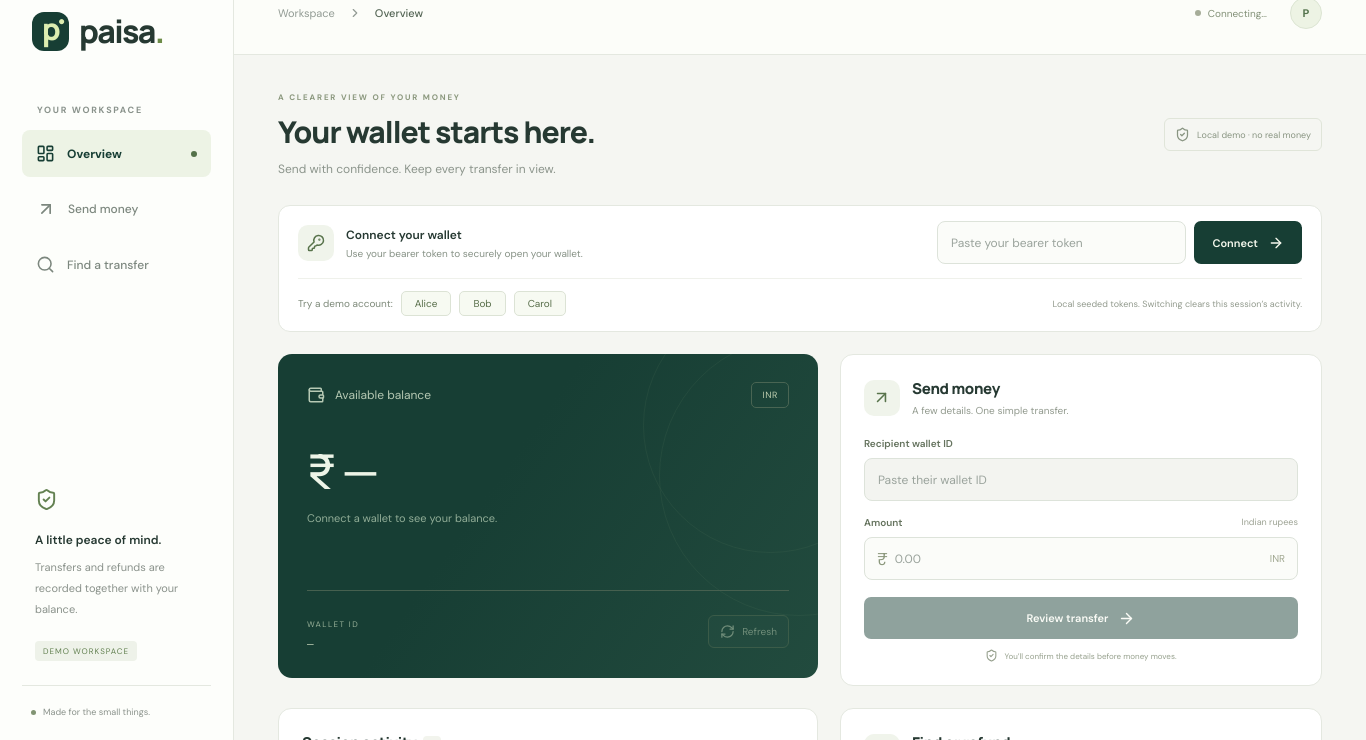
it: offers refunds only for an incoming successful original transfer
Type "test-token" into the password field labelled "bearer token" at {"x": 1062, "y": 242}, box [937,221,1186,264]
Click the button "Connect" at {"x": 1248, "y": 242}, box [1194,221,1302,264]
(page scrolled)
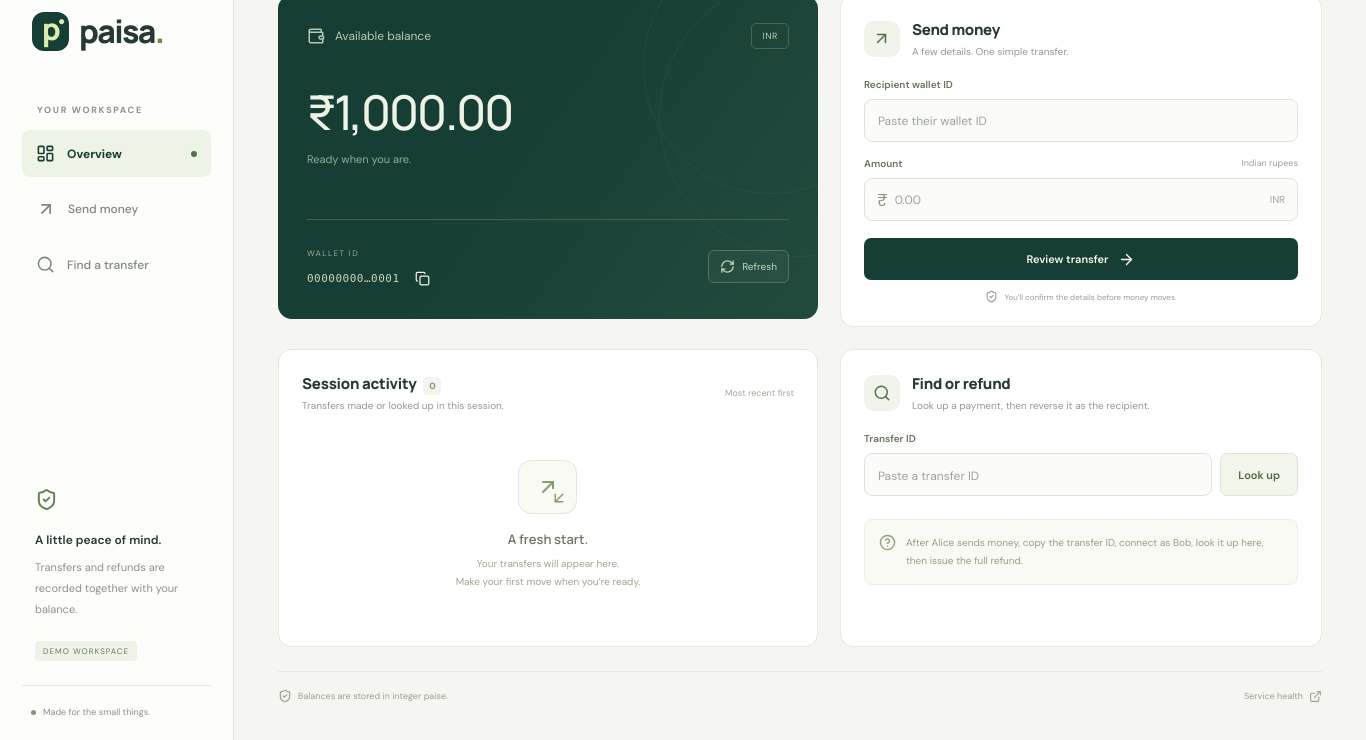
Type "00000000-0000-4000-8000-000000000010" into the field labelled "Transfer ID" at {"x": 1038, "y": 474}, box [864,453,1212,496]
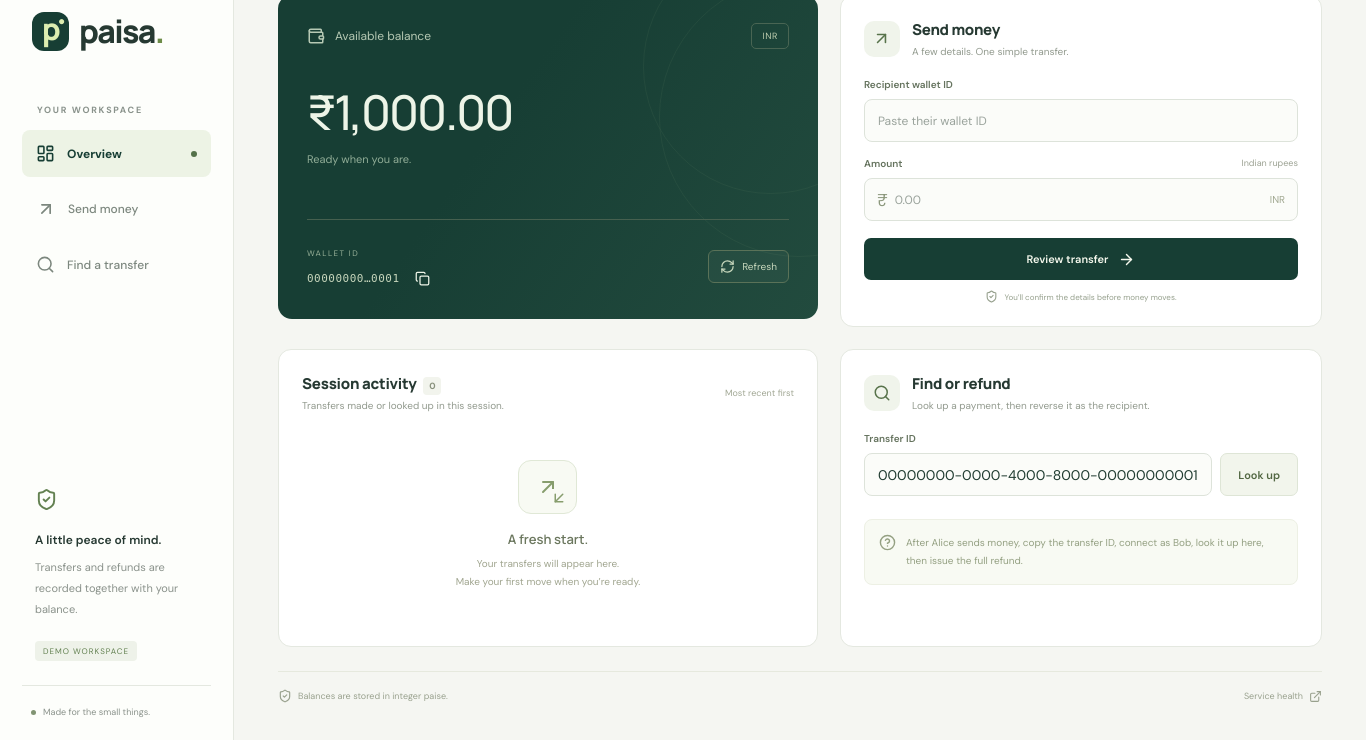
Click the button "Look up" at {"x": 1259, "y": 474}, box [1220,453,1298,496]
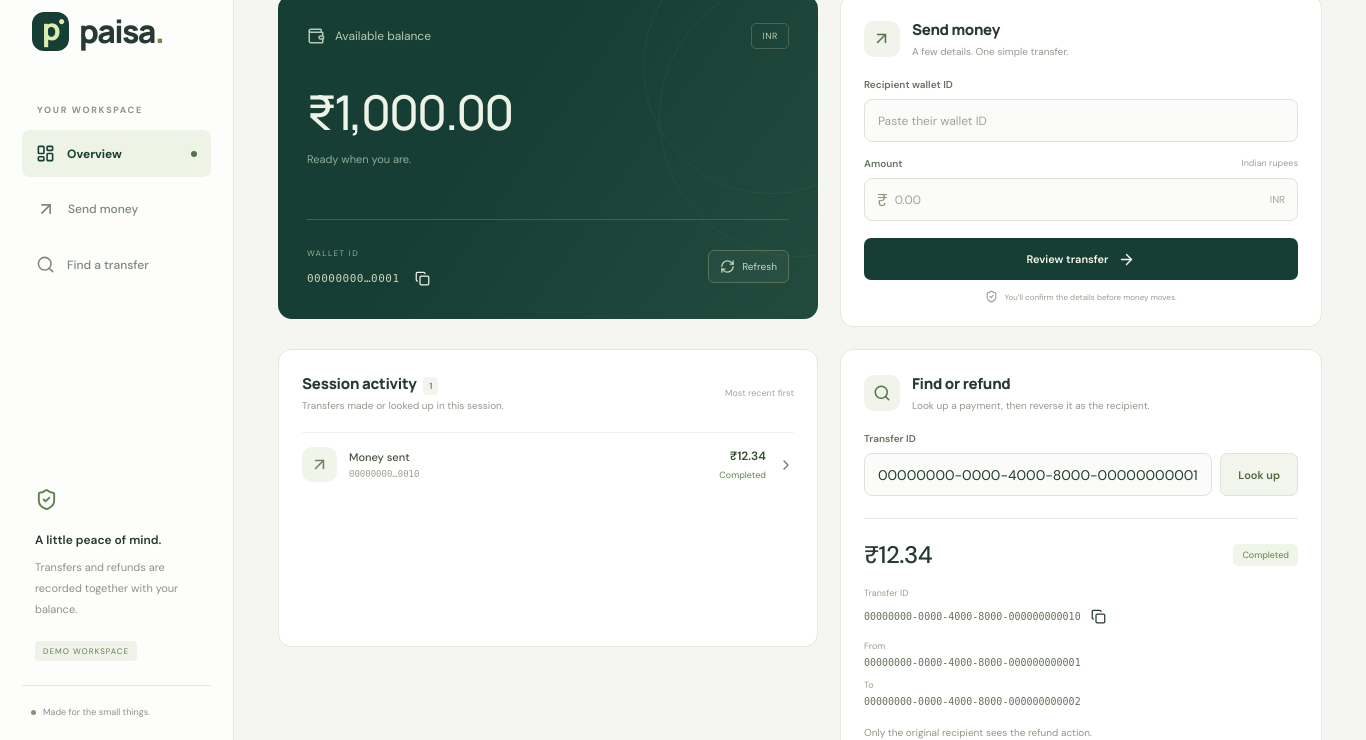
Expected: the button "Review full refund" is not shown
Expected: the text "Only the original recipient sees the refund action." is shown, [864,726,1092,739]
Click the button "Look up" at {"x": 1259, "y": 474}, box [1220,453,1298,496]
(page scrolled)
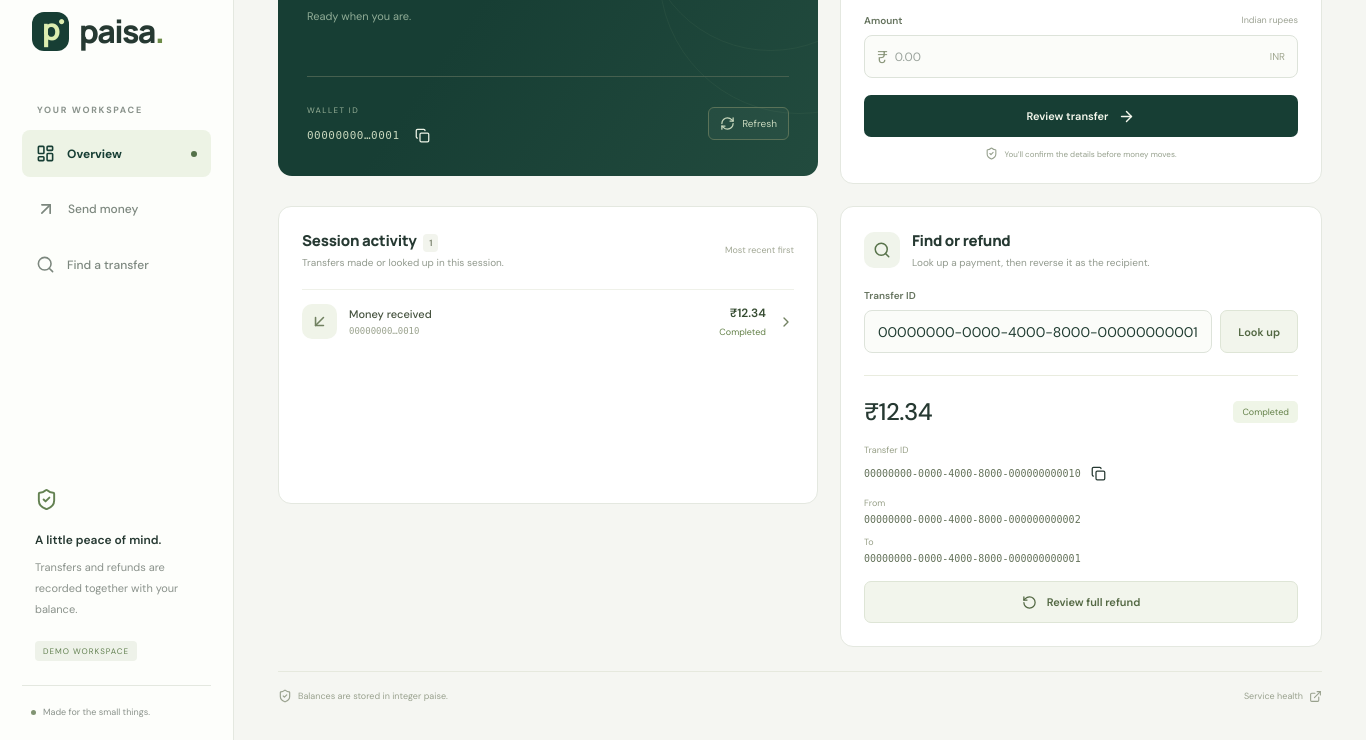
Click the button "Review full refund" at {"x": 1081, "y": 602}, box [864,581,1298,623]
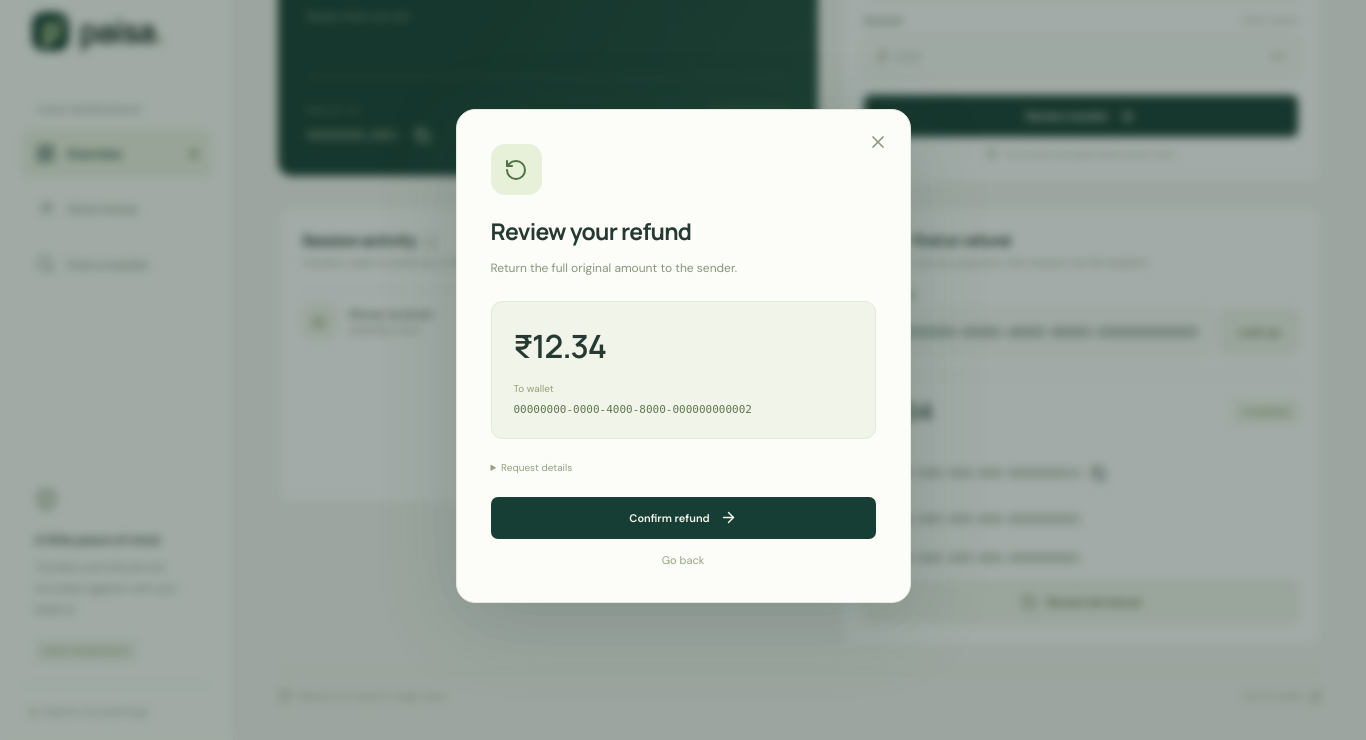
Click the button "Confirm refund" at {"x": 683, "y": 518}, box [490,497,876,539]
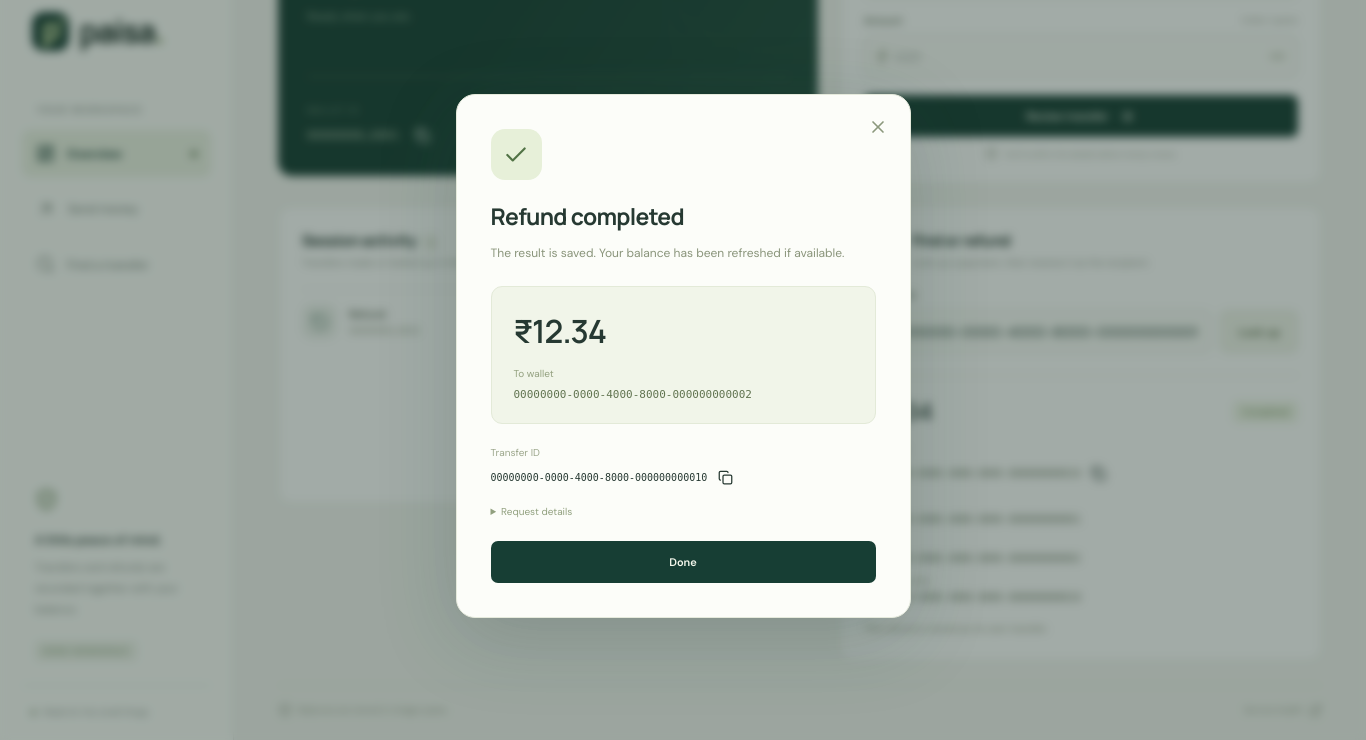
Expected: the heading "Refund completed" is shown, [490,200,684,232]
